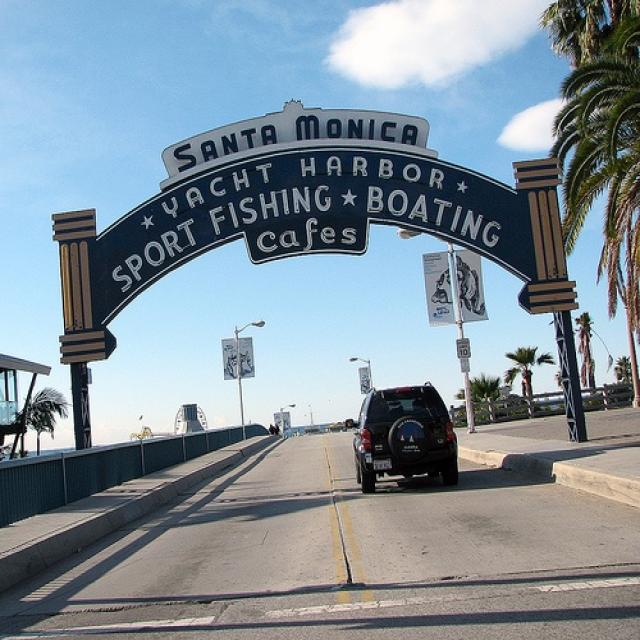car: (352, 386, 463, 492)
